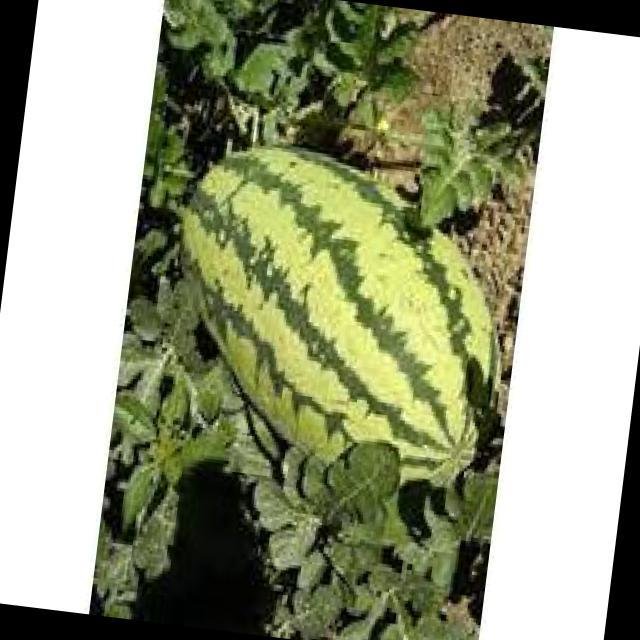watermelon: (180, 147, 494, 485)
